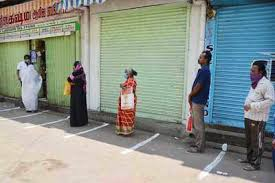Social Distance: (10, 48, 271, 167)
